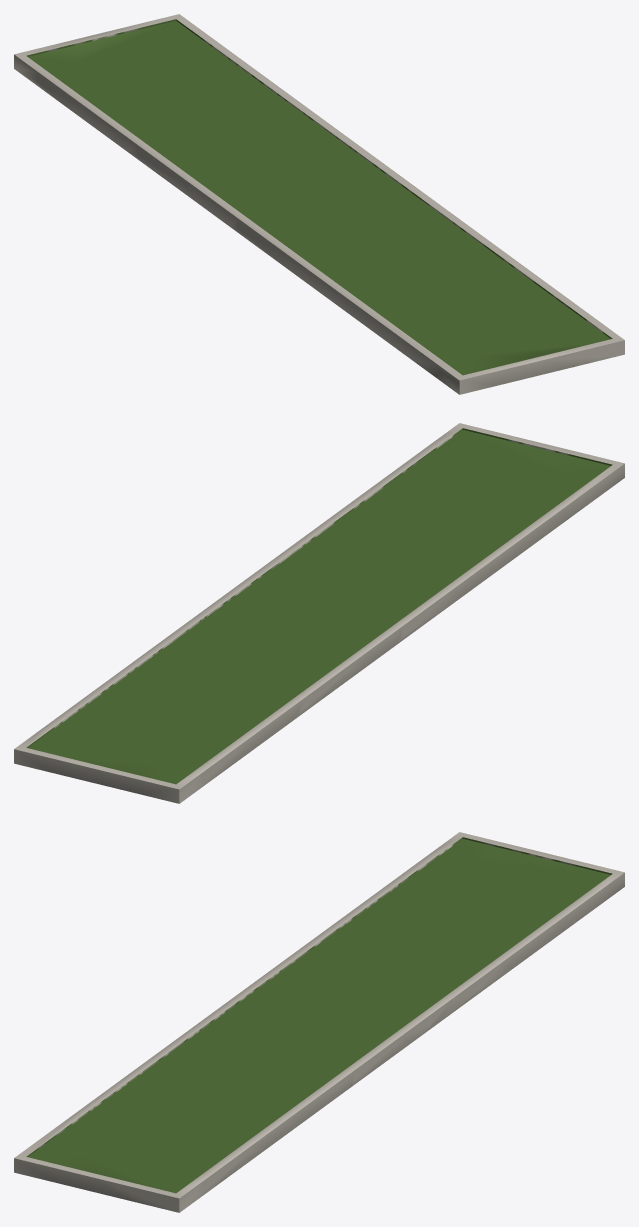
File: bon_co_234797330.mid.glb
The picture shows the model from 3 angles, top to bottom: view 1: azimuth 30°, elevation 25°; view 2: azimuth 150°, elevation 25°; view 3: azimuth 330°, elevation 25°; orthographic projection.
Visible parts, largest first — view 1: drawing; view 2: drawing; view 3: drawing.
Boxes of the visible parts, <box> form: drawing: <box>14,14,624,394</box>; drawing: <box>14,423,624,803</box>; drawing: <box>14,832,624,1212</box>.
Size of the model in its own units: 5.4 by 0.45 by 25.19.
2 materials, 2 textured.
